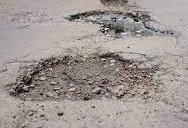pothole: (9, 49, 161, 106), (65, 8, 175, 39)
